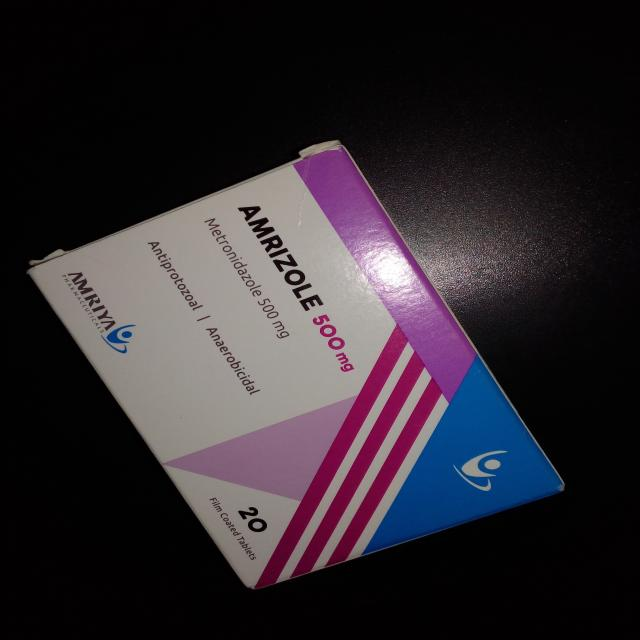Medicine: (18, 132, 570, 590)
